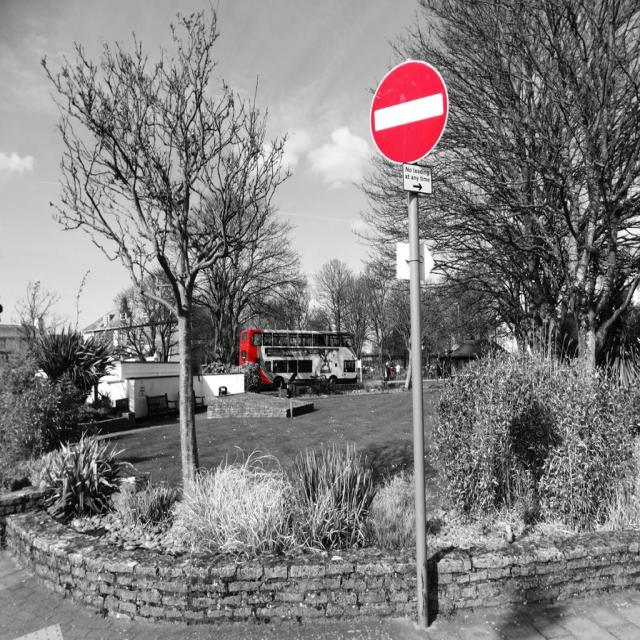Stop-sign: (362, 60, 450, 178)
